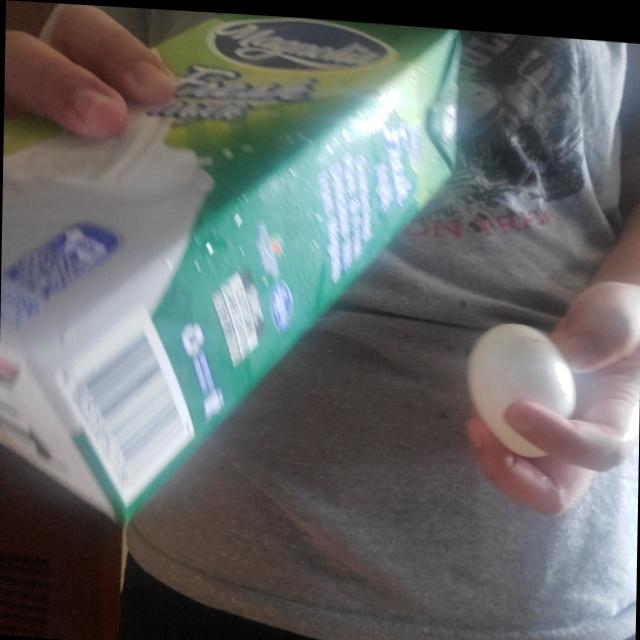egg: (468, 309, 580, 454)
milk: (0, 0, 458, 544)
